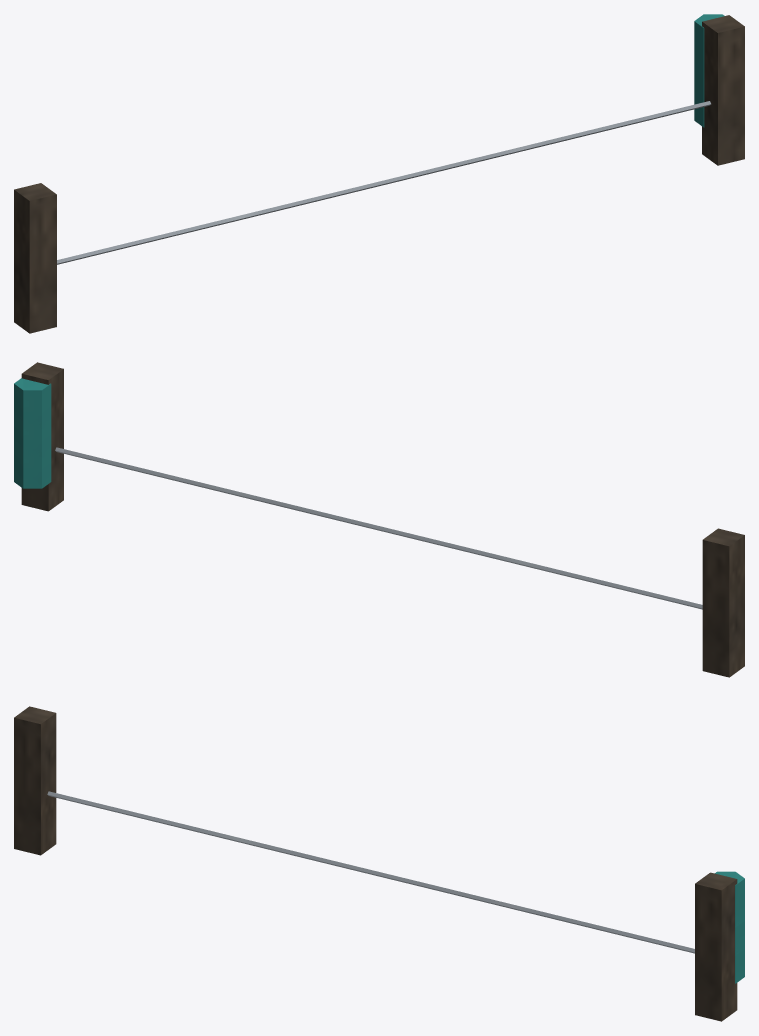
File: SM_TripwireAlarm.fbx
3 views of the same model, one above another, from view 1: azimuth 30°, elevation 25°; view 2: azimuth 150°, elevation 25°; view 3: azimuth 330°, elevation 25° (orthographic).
Visible parts, largest first — view 1: SM_TripwireAlarm; view 2: SM_TripwireAlarm; view 3: SM_TripwireAlarm.
Boxes of the visible parts, left/top/right/bottom form: SM_TripwireAlarm: left=14, top=14, right=744, bottom=333; SM_TripwireAlarm: left=14, top=362, right=744, bottom=677; SM_TripwireAlarm: left=14, top=706, right=744, bottom=1021.
Size of the model in its own units: 7.91 by 1.4 by 0.53.
1 material, 1 textured.
